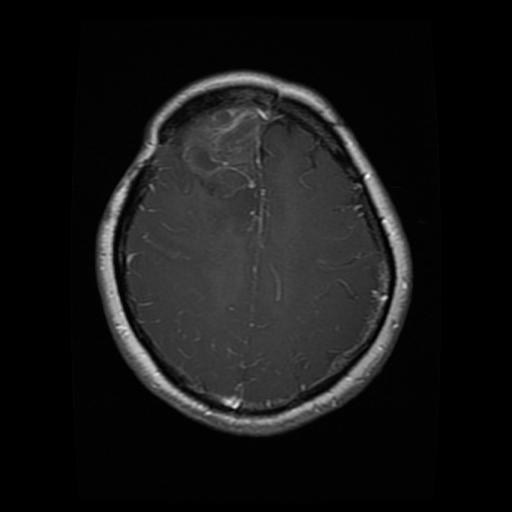Gliomia_tumour: (155, 103, 283, 207)
